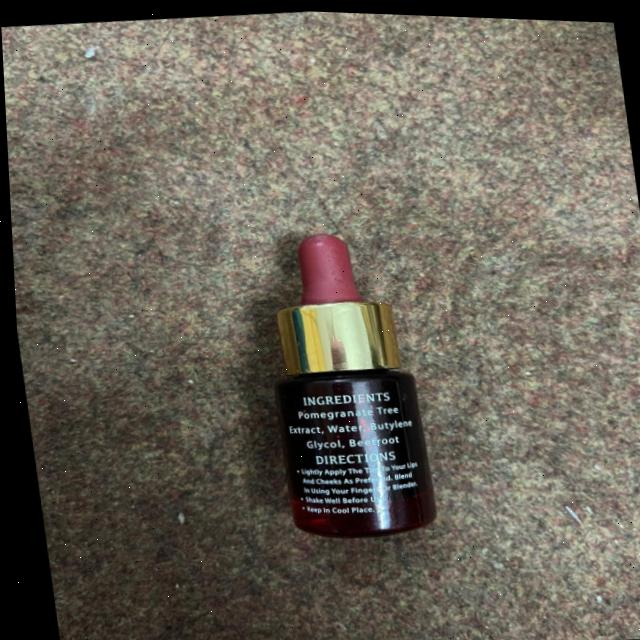serum: (199, 183, 493, 561)
